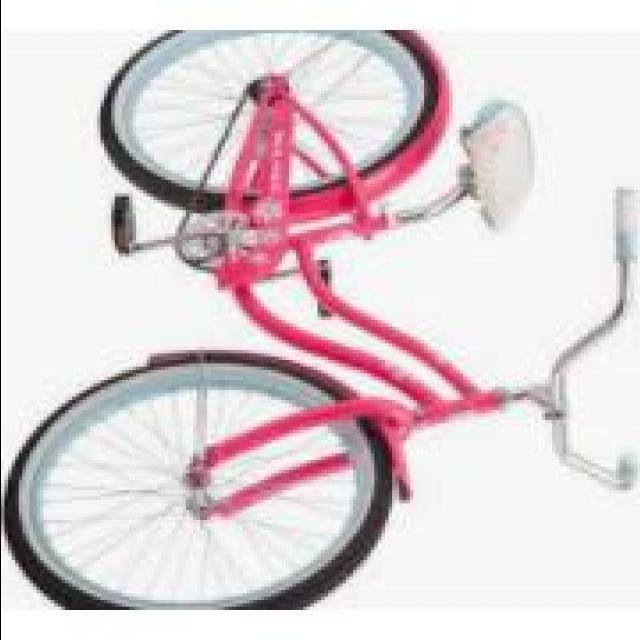bicycle: (40, 31, 620, 607)
